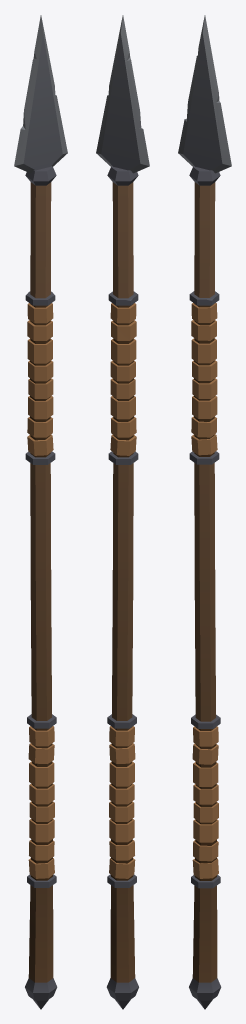
Rendered from Weapon_04.glb.
3 views of the same model, side by side, from view 1: azimuth 30°, elevation 25°; view 2: azimuth 150°, elevation 25°; view 3: azimuth 330°, elevation 25° (orthographic).
Visible parts, largest first — view 1: Weapon_04_LOD0; view 2: Weapon_04_LOD0; view 3: Weapon_04_LOD0.
Boxes of the visible parts, x1=… form: Weapon_04_LOD0: x1=14, y1=15, x2=67, y2=1009; Weapon_04_LOD0: x1=96, y1=15, x2=149, y2=1009; Weapon_04_LOD0: x1=178, y1=15, x2=231, y2=1009.
Size of what is drawn, in the model's own units: 0.1075 by 1.9 by 0.0563.
Materials: 1 (1 with a texture image).
